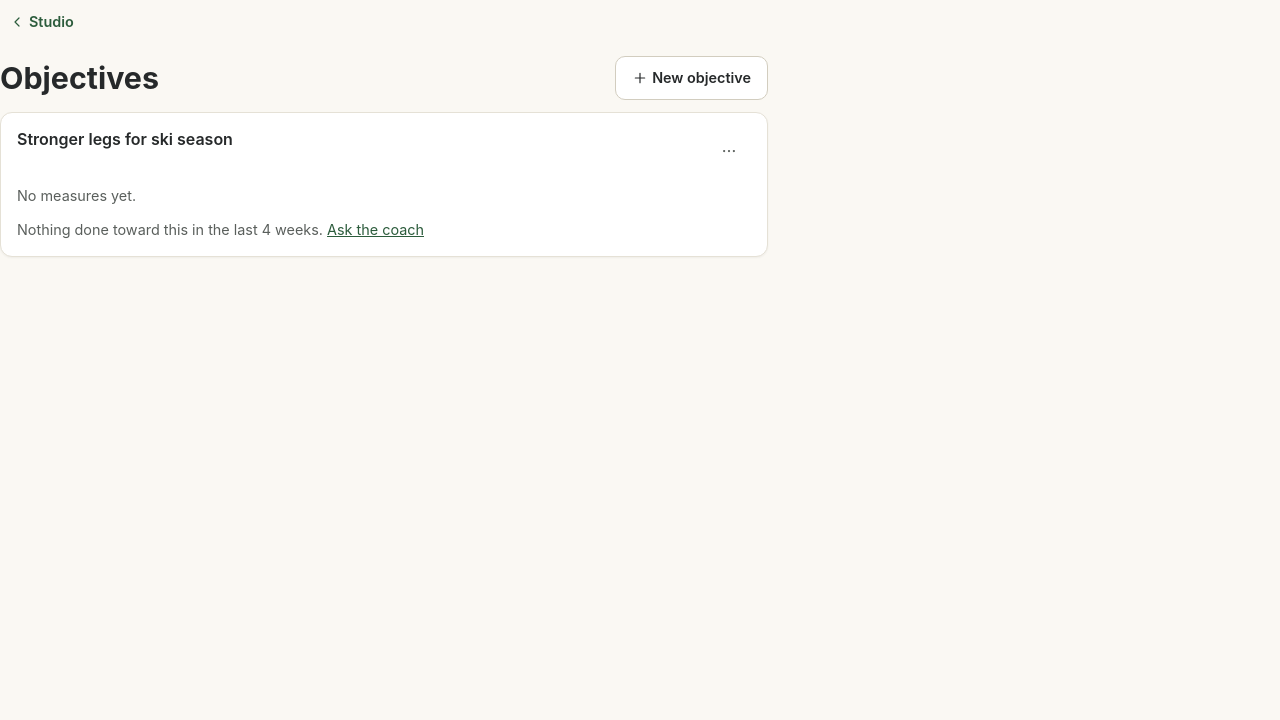
it: the coach switch › a stalled objective: 'Ask the coach' opens the coach's sheet about it, a request toward it filled in (Task 13, D13; coach everywhere, A3)
Expected: the element with class "obj-card" shows "Nothing done toward this", [17, 221, 327, 238]
Click the button "Ask the coach": click(375, 229) [327, 219, 424, 240]
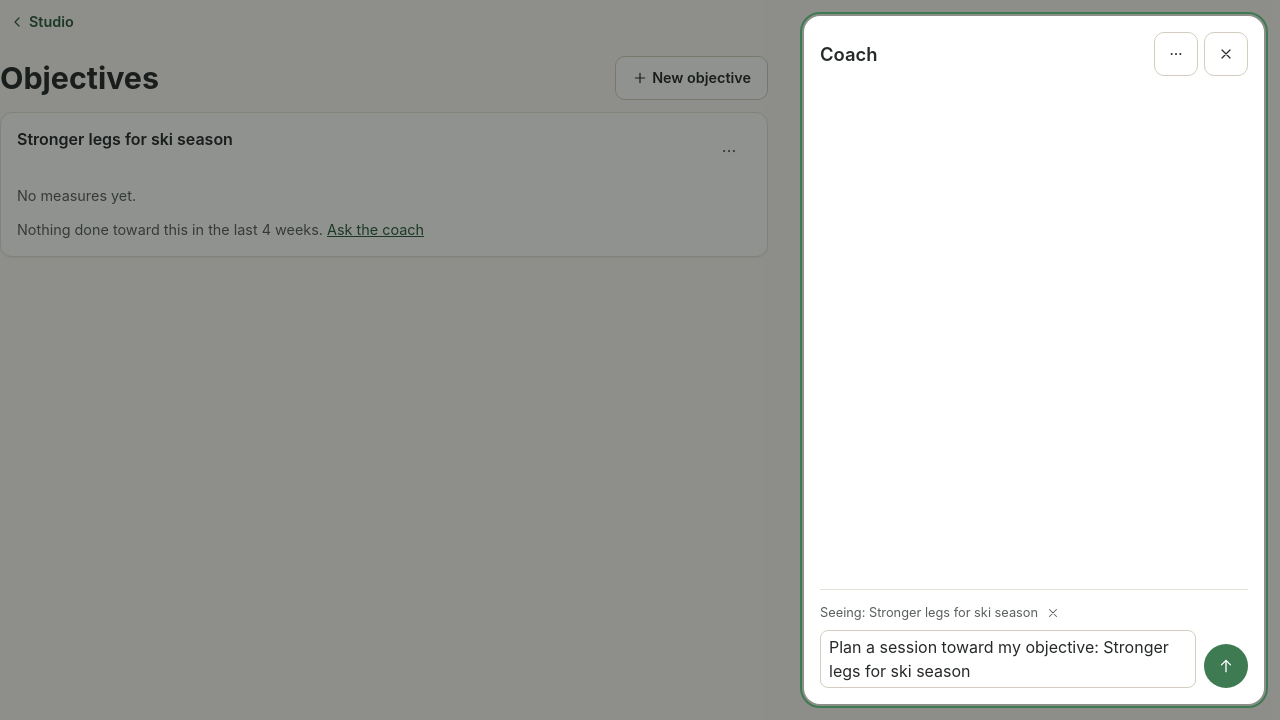
Expected: the text box holds "Plan a session toward my objective: Stronger legs for ski season", [820, 630, 1196, 688]
Expected: the dialog shows "Stronger legs for ski season", [820, 605, 1038, 620]
